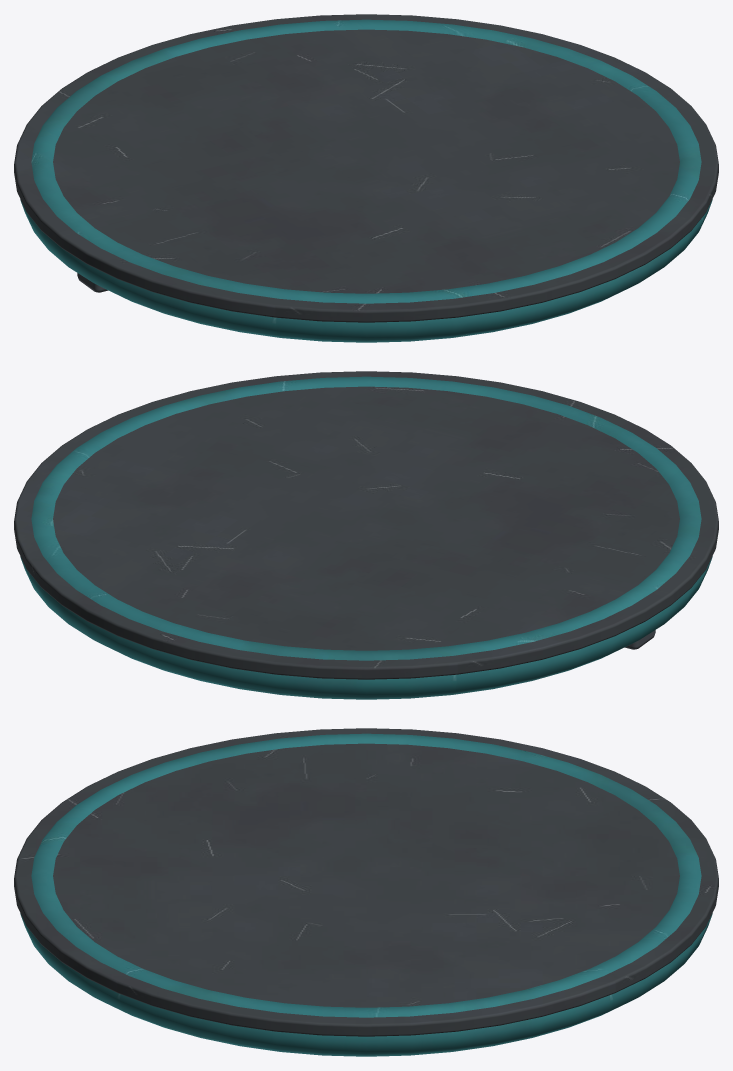
Rendered from CeilingHatch.glb.
3 views of the same model, one above another, from view 1: azimuth 30°, elevation 25°; view 2: azimuth 150°, elevation 25°; view 3: azimuth 270°, elevation 25° (orthographic).
Visible parts, largest first — view 1: CeilingHatch_Body; view 2: CeilingHatch_Body; view 3: CeilingHatch_Body.
Boxes of the visible parts, left/top/right/bottom form: CeilingHatch_Body: left=14, top=14, right=718, bottom=342; CeilingHatch_Body: left=14, top=371, right=718, bottom=699; CeilingHatch_Body: left=14, top=728, right=718, bottom=1056.
Size of the model in its own units: 1 by 0.2249 by 1.
Materials: 6 (3 with a texture image).
